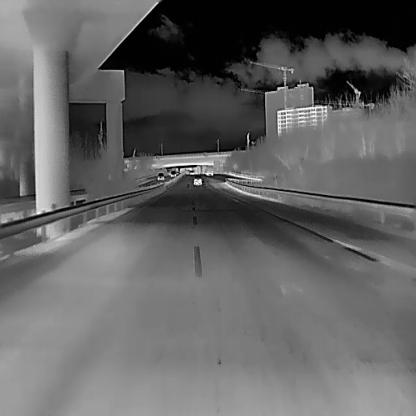car: (192, 173, 202, 185), (156, 172, 164, 180), (206, 167, 213, 175), (170, 169, 176, 176), (190, 169, 194, 175)
